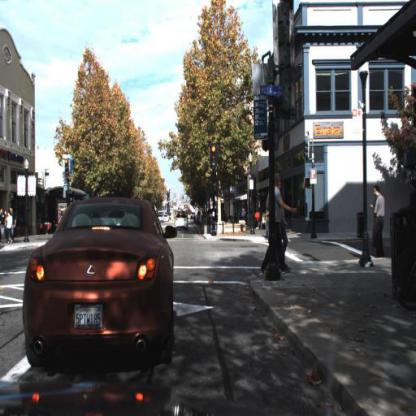car: (22, 194, 178, 370), (175, 208, 189, 235)
pedestrian: (265, 171, 294, 274), (279, 181, 293, 271), (371, 183, 385, 262), (375, 183, 389, 256), (13, 207, 19, 239), (11, 204, 16, 238)
trafficLight-Red: (211, 143, 218, 167), (66, 159, 71, 178)
